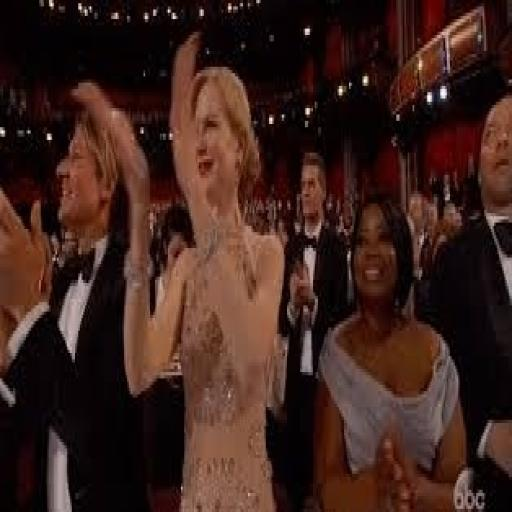clapping: (77, 51, 352, 512), (2, 76, 153, 509), (312, 188, 470, 508)
